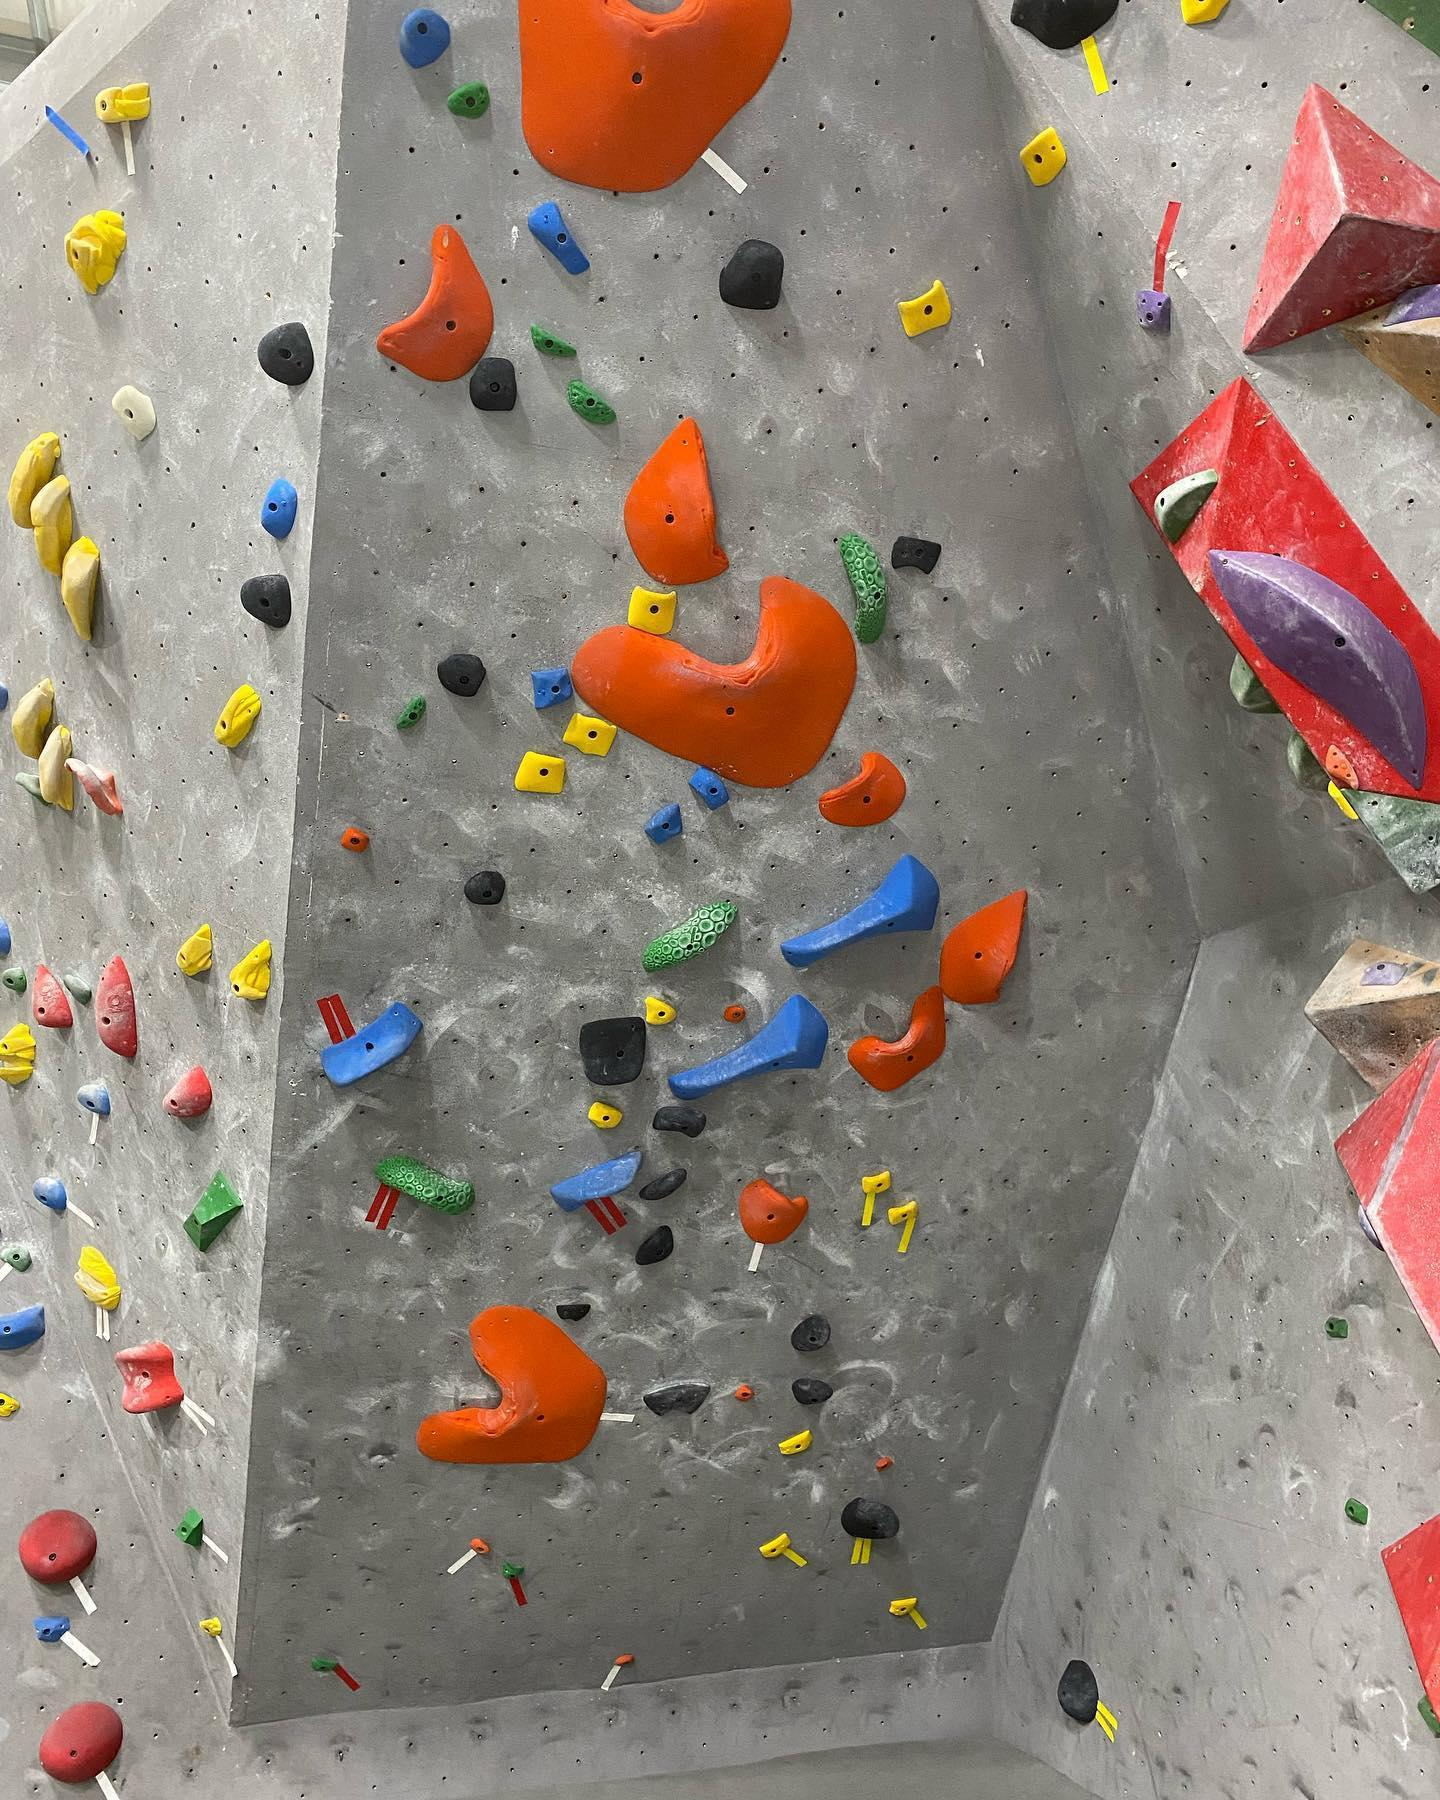hold: (573, 576, 855, 786), (519, 0, 792, 195), (1208, 551, 1428, 789), (416, 1303, 607, 1465), (780, 851, 940, 967), (376, 223, 492, 382), (623, 416, 730, 583), (848, 984, 946, 1093), (939, 889, 1029, 1005), (319, 1001, 423, 1087), (38, 1700, 122, 1784), (816, 751, 907, 827), (642, 901, 738, 973), (373, 1153, 478, 1217), (548, 1149, 645, 1212), (19, 1509, 97, 1583), (838, 533, 888, 645), (1009, 0, 1118, 50), (115, 1337, 185, 1414), (63, 210, 126, 295), (181, 1168, 242, 1252), (9, 432, 60, 529), (1153, 469, 1218, 544), (738, 1178, 810, 1245), (719, 238, 785, 310), (528, 201, 592, 273), (31, 475, 75, 577), (580, 1017, 645, 1084), (62, 536, 100, 641), (257, 322, 313, 385), (65, 758, 123, 817), (896, 278, 954, 338), (1230, 652, 1284, 716), (73, 1243, 122, 1312), (38, 724, 75, 814), (400, 7, 451, 68), (215, 685, 263, 748), (1018, 125, 1067, 188), (240, 573, 292, 629), (228, 937, 273, 1001), (469, 357, 519, 411), (1287, 730, 1330, 792), (1056, 1659, 1098, 1722), (641, 1378, 711, 1415), (162, 1067, 212, 1118), (112, 385, 157, 441), (32, 965, 73, 1027), (1381, 284, 1440, 326), (513, 749, 567, 795), (840, 1497, 899, 1538), (563, 713, 617, 757), (260, 476, 297, 541), (0, 1023, 37, 1087), (94, 82, 151, 123), (627, 586, 677, 633), (566, 379, 619, 423), (438, 654, 486, 696), (176, 921, 213, 977), (0, 1305, 46, 1349), (686, 766, 730, 811), (890, 536, 940, 573), (638, 1167, 688, 1202), (532, 667, 573, 710), (633, 1224, 674, 1265), (447, 81, 491, 119), (652, 1106, 707, 1137), (1136, 288, 1173, 332), (645, 802, 683, 843), (463, 868, 505, 905), (1325, 745, 1359, 791), (530, 323, 577, 356), (791, 1315, 830, 1352), (1356, 1205, 1386, 1252), (13, 771, 51, 807), (791, 1377, 835, 1405), (1328, 780, 1359, 820), (175, 1505, 203, 1547), (1361, 961, 1408, 986), (1181, 0, 1228, 24), (31, 1177, 66, 1208), (76, 1086, 110, 1117), (588, 1099, 623, 1128), (32, 1615, 69, 1643), (777, 1430, 816, 1456), (397, 695, 426, 729), (0, 1245, 32, 1274), (758, 1531, 792, 1559), (1418, 1694, 1440, 1737), (645, 996, 676, 1026), (65, 974, 91, 1007), (888, 1199, 920, 1225), (861, 1170, 892, 1195), (339, 829, 370, 852), (889, 1594, 920, 1616), (1, 967, 28, 992), (1344, 1497, 1368, 1525), (555, 1305, 592, 1321), (0, 1392, 22, 1418), (1324, 1315, 1349, 1337), (0, 914, 12, 960), (198, 1616, 223, 1637), (310, 1656, 338, 1672), (501, 1559, 525, 1578), (733, 1383, 755, 1402), (723, 1007, 746, 1023), (469, 1537, 489, 1555), (613, 1653, 635, 1666), (0, 680, 9, 711), (876, 1458, 893, 1471)
volume: (1127, 373, 1440, 804), (1242, 79, 1440, 354), (1333, 1034, 1440, 1358), (1303, 939, 1440, 1096), (1333, 284, 1440, 417), (1380, 1512, 1440, 1722), (1342, 791, 1440, 898)
